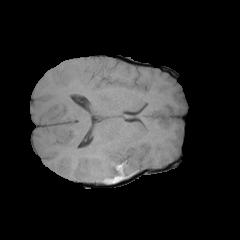glioma: (84, 145, 146, 183)
